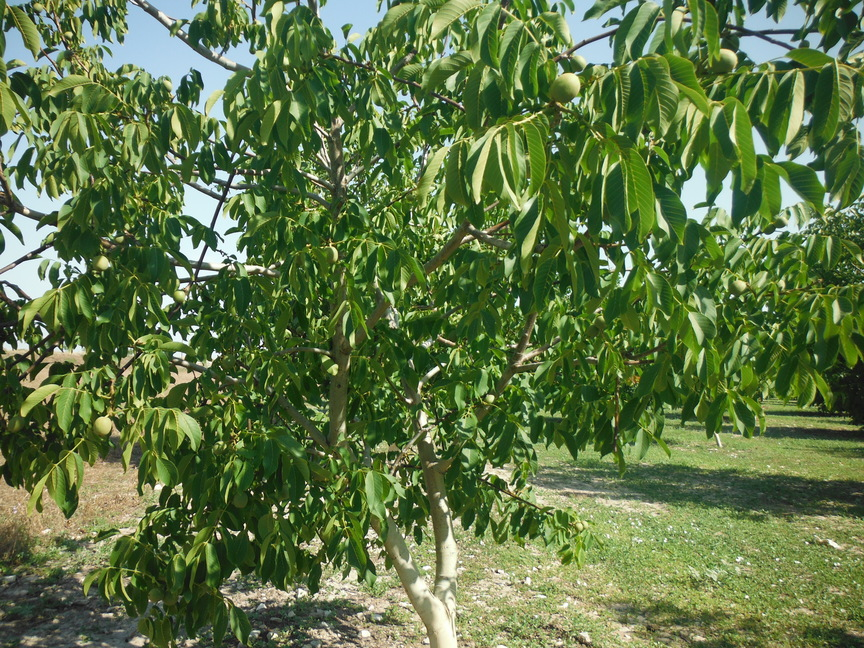walnut: (547, 71, 582, 108), (706, 47, 742, 74), (91, 412, 115, 439), (230, 488, 252, 514), (727, 276, 750, 300), (320, 242, 343, 266), (4, 412, 27, 435), (568, 51, 589, 75), (145, 583, 167, 604), (210, 437, 231, 458), (164, 586, 183, 609), (91, 254, 111, 273), (582, 320, 600, 340), (171, 287, 189, 306), (773, 213, 792, 230), (113, 229, 129, 249), (222, 351, 237, 372), (593, 313, 610, 331), (482, 391, 498, 407), (160, 78, 175, 95), (762, 220, 777, 237), (30, 1, 46, 16), (61, 27, 78, 41), (573, 520, 585, 534), (579, 517, 591, 531), (295, 322, 304, 336), (406, 192, 416, 202), (518, 500, 526, 511)
